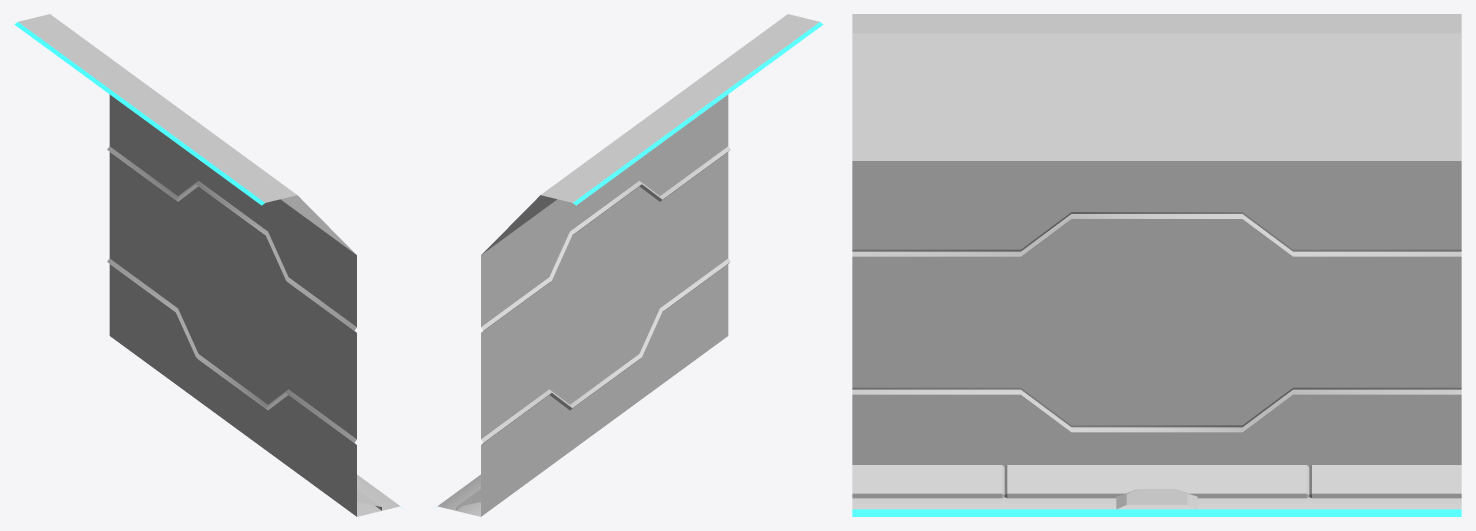
Rendered from SM_WallTile3.fbx.
3 views of the same model, side by side, from view 1: azimuth 30°, elevation 25°; view 2: azimuth 150°, elevation 25°; view 3: azimuth 270°, elevation 25° (orthographic). The views are drawn at different scales.
Visible parts, largest first — view 1: Plane.082; view 2: Plane.082; view 3: Plane.082.
Boxes of the visible parts, x1,y1,x2,y2 form: Plane.082: [14, 14, 400, 516]; Plane.082: [437, 14, 823, 516]; Plane.082: [852, 14, 1461, 516].
Bounding box in the file's own units: 2 × 6 × 4.56.
